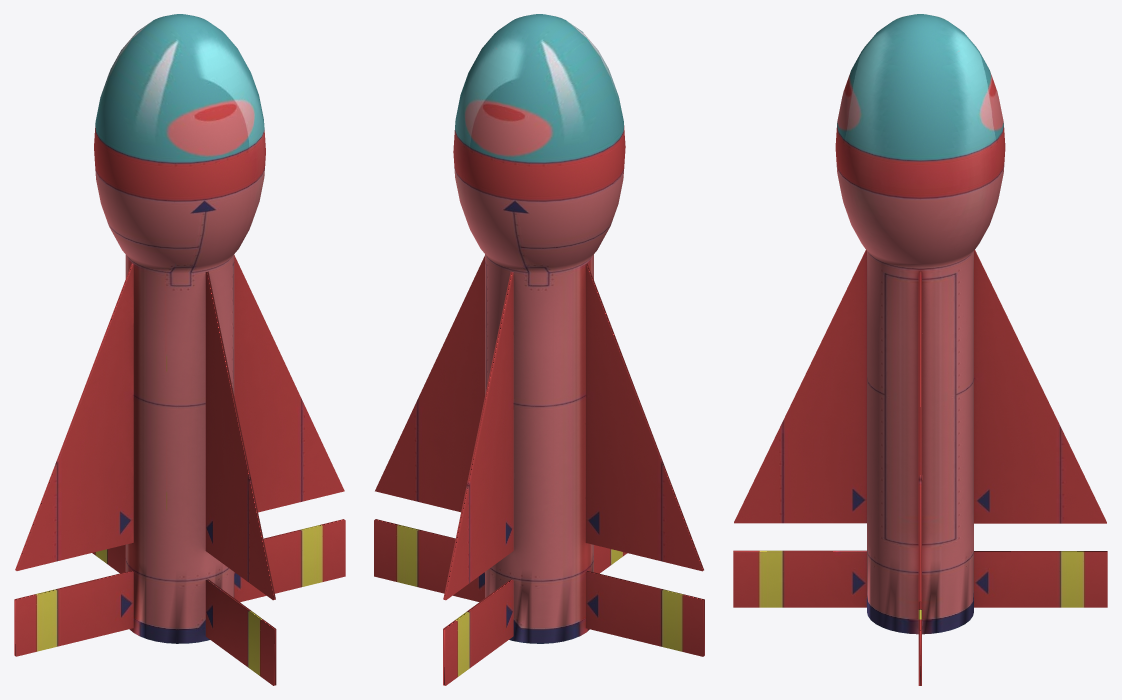
Rendered from Hottie_40fanim.FBX.
3 renders of one model, left to right at view 1: azimuth 30°, elevation 25°; view 2: azimuth 150°, elevation 25°; view 3: azimuth 270°, elevation 25°, orthographic.
Visible parts, largest first — view 1: Hottie; view 2: Hottie; view 3: Hottie.
Boxes of the visible parts, box(x1,y1,x2,y2) form: Hottie: box(14, 14, 345, 685); Hottie: box(374, 14, 704, 685); Hottie: box(733, 14, 1107, 685).
Size of the model in its own units: 54.55 by 95.38 by 54.55.
Materials: 1 (1 with a texture image).
